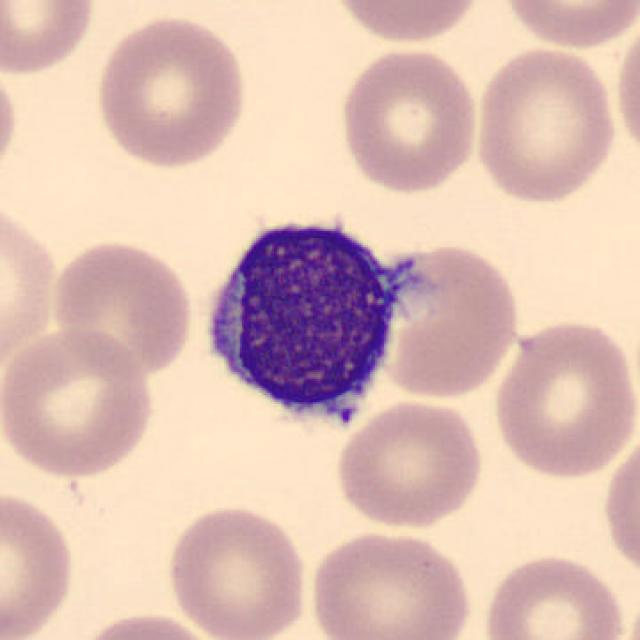Lymphocyte: (190, 201, 411, 446)
RBC: (90, 11, 250, 171), (0, 324, 158, 482), (470, 42, 620, 208), (489, 314, 638, 481), (373, 240, 523, 400), (334, 44, 482, 196), (48, 234, 196, 381), (161, 500, 311, 640), (333, 396, 487, 530), (304, 525, 476, 640), (478, 548, 630, 640), (0, 485, 80, 640), (0, 192, 60, 382), (323, 0, 489, 48), (0, 0, 99, 79), (496, 0, 638, 51), (597, 425, 640, 587), (73, 608, 224, 640), (611, 7, 640, 167), (0, 56, 21, 188)
